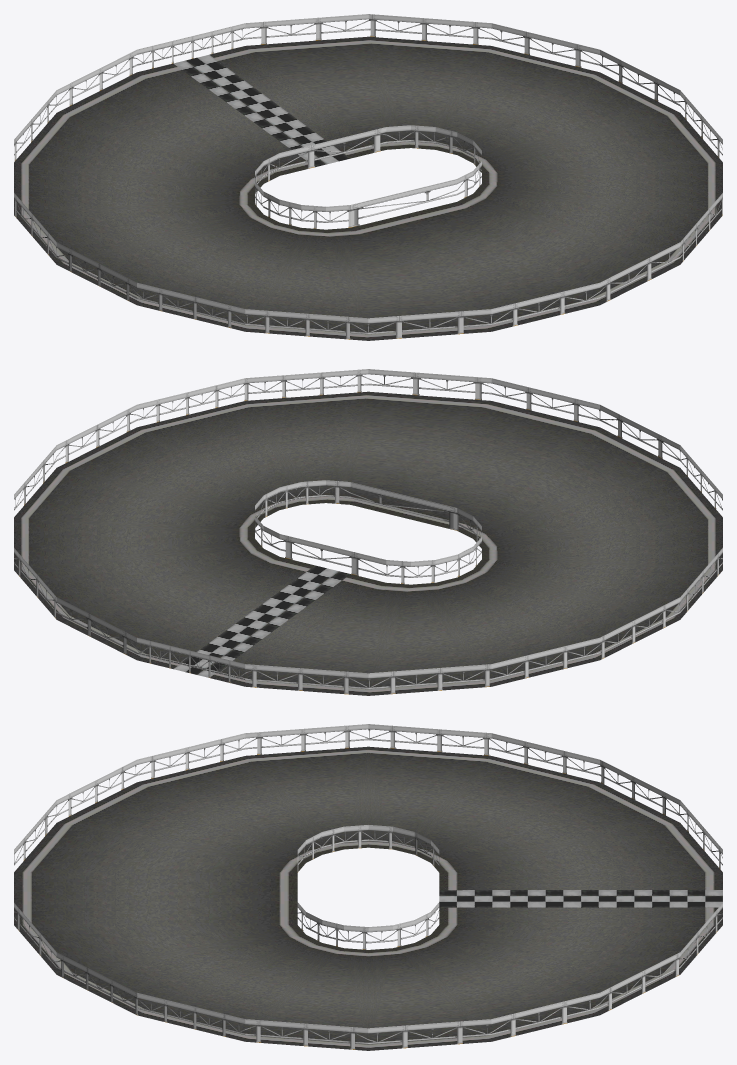
3 renders of one model, top to bottom at view 1: azimuth 30°, elevation 25°; view 2: azimuth 150°, elevation 25°; view 3: azimuth 270°, elevation 25°, orthographic.
Visible parts, largest first — view 1: test_circle; view 2: test_circle; view 3: test_circle.
Part boxes in pixels (left/top/right/bottom): test_circle: left=14, top=14, right=722, bottom=340; test_circle: left=14, top=369, right=722, bottom=695; test_circle: left=14, top=724, right=722, bottom=1050.
Size of the model in its own units: 50.64 by 1.78 by 49.87.
3 materials, 3 textured.
